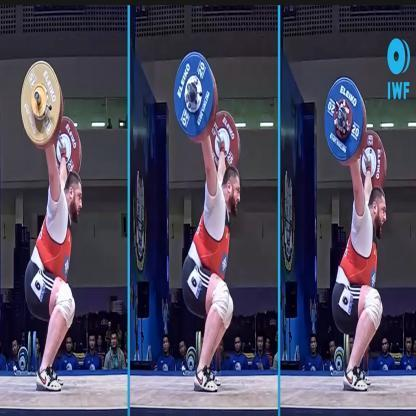barbell: (175, 51, 241, 169), (21, 60, 84, 180), (325, 78, 388, 184)
